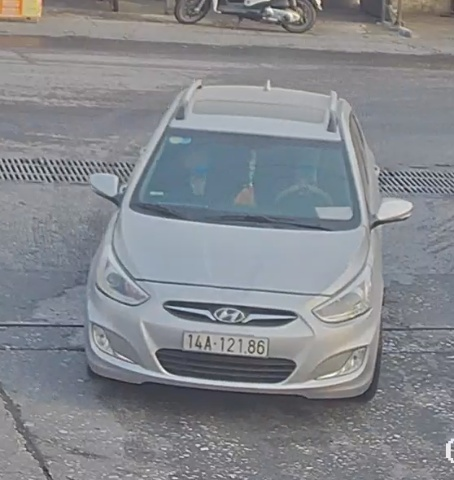vehicle plate: (178, 325, 278, 364)
